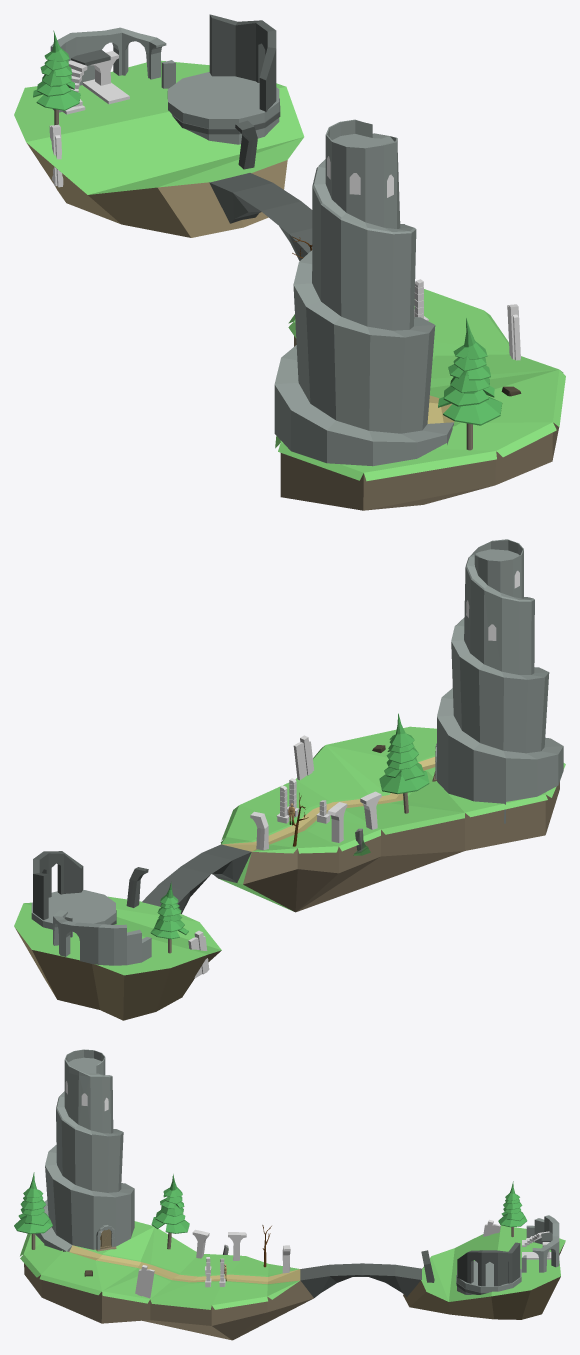
Rendered from SM_03 Spiral Tower.fbx.
3 renders of one model, top to bottom at view 1: azimuth 30°, elevation 25°; view 2: azimuth 150°, elevation 25°; view 3: azimuth 270°, elevation 25°, orthographic. The views are drawn at different scales.
Visible parts, largest first — view 1: Plane.001, Cylinder.017, Cylinder.009, Cylinder.018, Cylinder.020, Cylinder.022, Pine.004, Cube.050, Pine.005, Cube.028, Cube.056, Cube.051; view 2: Cylinder.009, Plane.001, Cylinder.017, Cube.050, Cylinder.022, Pine.003, Cylinder.020, Cylinder.018, Pine.005, Cube.056; view 3: Cylinder.009, Plane.001, Cylinder.017, Cylinder.022, Cylinder.020, Pine.004, Pine.003, Cube.050, Cylinder.018, Pine.005, Cube.056.
Part boxes in pixels (box(x1,y1,x2,y2)): Plane.001: box(274, 119, 453, 466); Cylinder.017: box(14, 60, 304, 237); Cylinder.009: box(275, 289, 565, 510); Cylinder.018: box(167, 72, 279, 144); Cylinder.020: box(209, 14, 276, 111); Cylinder.022: box(209, 173, 312, 260); Pine.004: box(438, 318, 502, 450); Cube.050: box(50, 27, 175, 112); Pine.005: box(33, 30, 80, 125); Cube.028: box(235, 120, 257, 169); Cube.056: box(507, 304, 520, 360); Cube.051: box(82, 79, 129, 104); Cylinder.009: box(220, 726, 565, 912); Plane.001: box(437, 539, 563, 823); Cylinder.017: box(14, 896, 221, 1020); Cube.050: box(53, 910, 151, 965); Cylinder.022: box(142, 844, 251, 913); Pine.003: box(379, 713, 429, 813); Cylinder.020: box(33, 851, 83, 920); Cylinder.018: box(31, 890, 115, 929); Pine.005: box(150, 882, 188, 953); Cube.056: box(293, 735, 314, 780); Cylinder.009: box(20, 1221, 313, 1340); Plane.001: box(35, 1049, 134, 1251); Cylinder.017: box(403, 1225, 565, 1319); Cylinder.022: box(300, 1263, 421, 1297); Cylinder.020: box(457, 1242, 520, 1286); Pine.004: box(14, 1172, 52, 1249); Pine.003: box(151, 1174, 189, 1249); Cube.050: box(521, 1215, 559, 1272); Cylinder.018: box(457, 1261, 521, 1294); Pine.005: box(498, 1181, 527, 1237); Cube.056: box(135, 1265, 154, 1298).
Bounding box in the file's own units: 2489 × 2825 × 5817.
